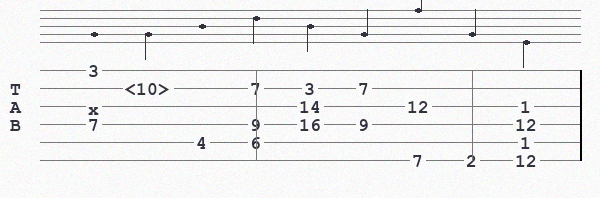1: (520, 98, 535, 114), (520, 134, 535, 150)
12: (407, 98, 433, 114), (515, 116, 541, 132), (515, 152, 541, 168)
14: (299, 98, 325, 114)
16: (299, 116, 325, 132)
2: (466, 152, 481, 168)
3: (88, 62, 103, 78), (304, 80, 319, 96)
4: (196, 134, 211, 150)
6: (250, 134, 265, 150)
7: (88, 116, 103, 132), (250, 80, 265, 96), (358, 80, 373, 96), (412, 152, 427, 168)
9: (250, 116, 265, 132), (358, 116, 373, 132)
harmonic: (125, 80, 175, 96)
x: (88, 100, 103, 112)
